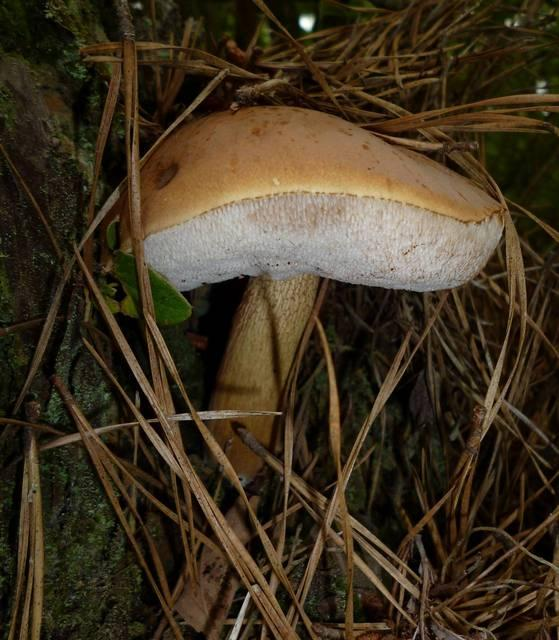poisonous_mushroom: (97, 102, 507, 488)
